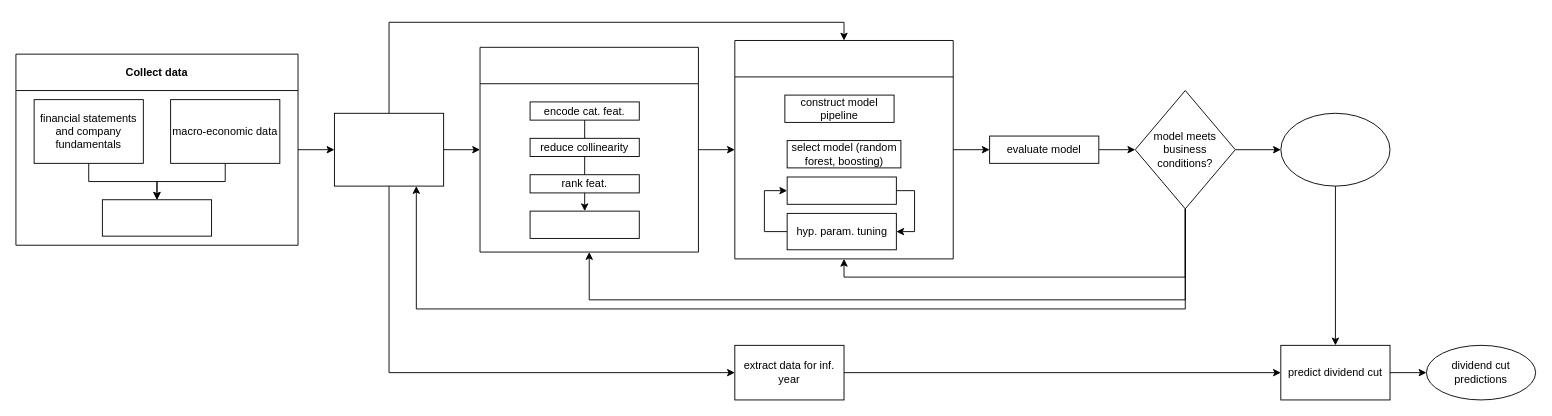
Some shapes in this 1552 by 416 pixel diagram are drawn without their labels. Here are the shapes that lost their labels. From the top down, the box of each, then its label:
(334, 112, 444, 186): preprocesse data
(479, 46, 698, 252): Feature Selection
(734, 40, 953, 259): Model Training
(1280, 112, 1390, 186): Final model
(786, 176, 896, 204): fit model
(101, 199, 212, 236): derived features (%age changes, etc)
(529, 210, 639, 238): sequentially select optimal feat.
